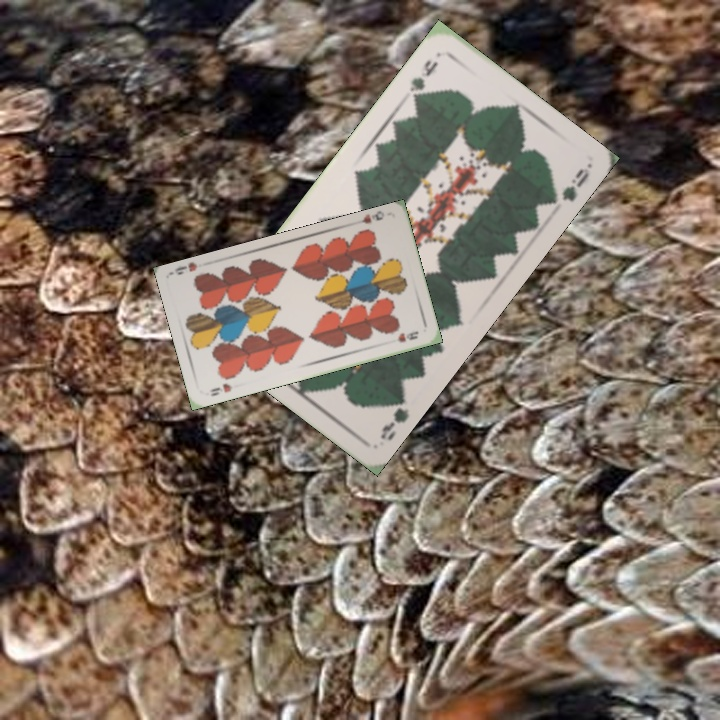G9: (376, 389, 412, 444), (406, 56, 441, 106)
H9: (352, 208, 385, 227), (205, 379, 235, 399)
